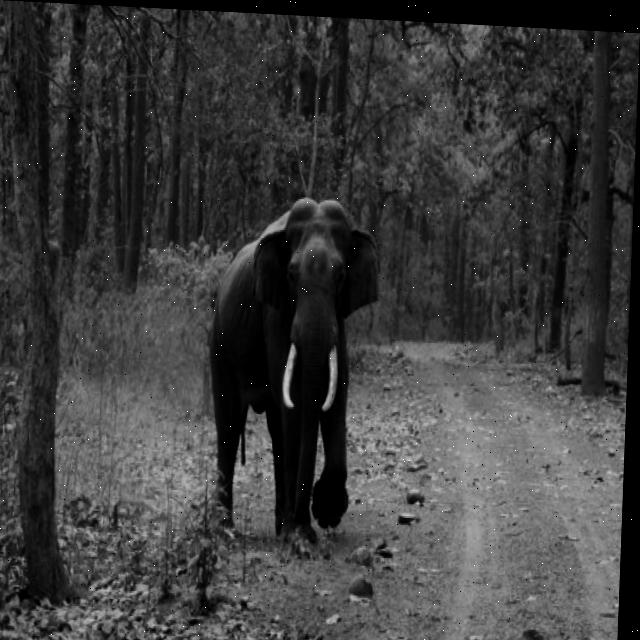Elephant: (200, 191, 382, 546)
